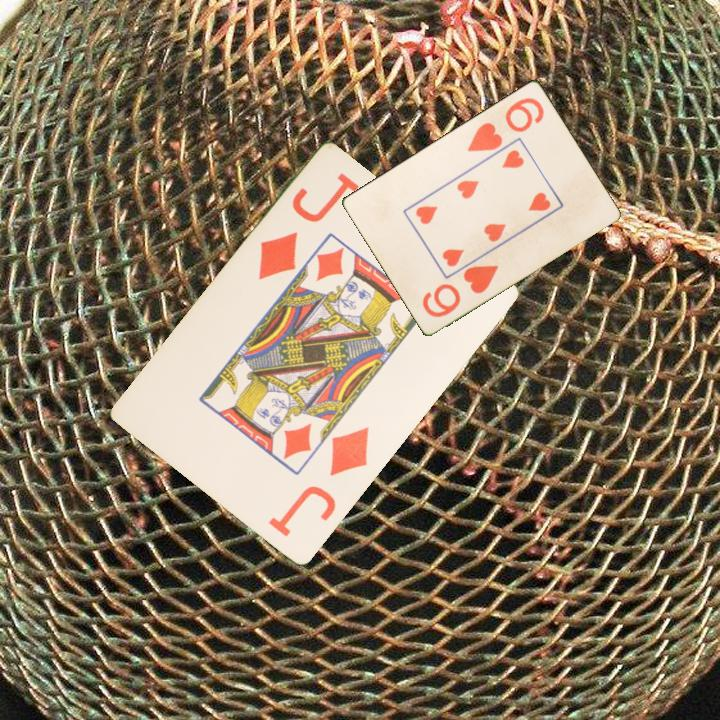6h: (464, 93, 547, 154), (419, 259, 502, 320)
Jd: (264, 423, 373, 541), (254, 169, 363, 284)
